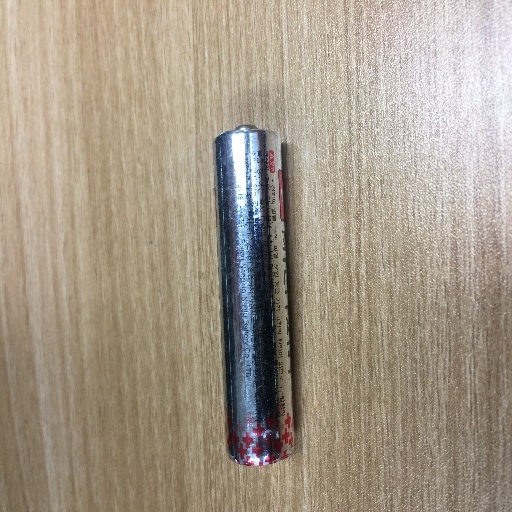Battery_0: (193, 115, 324, 474)
